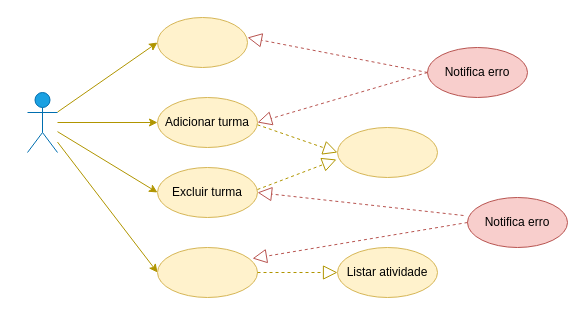
This 585x315 diagram has some shape labels left out. The shapes that lost their labels are listed below. From the top down, each one's centre as x and y in pixels, then its label:
the point at 202,42: Fazer login
the point at 387,152: Listar turma
the point at 207,272: Adicionar atividade
